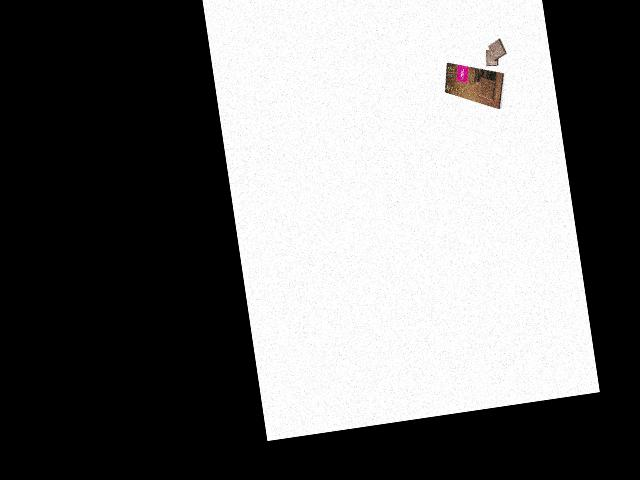chocolate: (439, 53, 509, 117)
